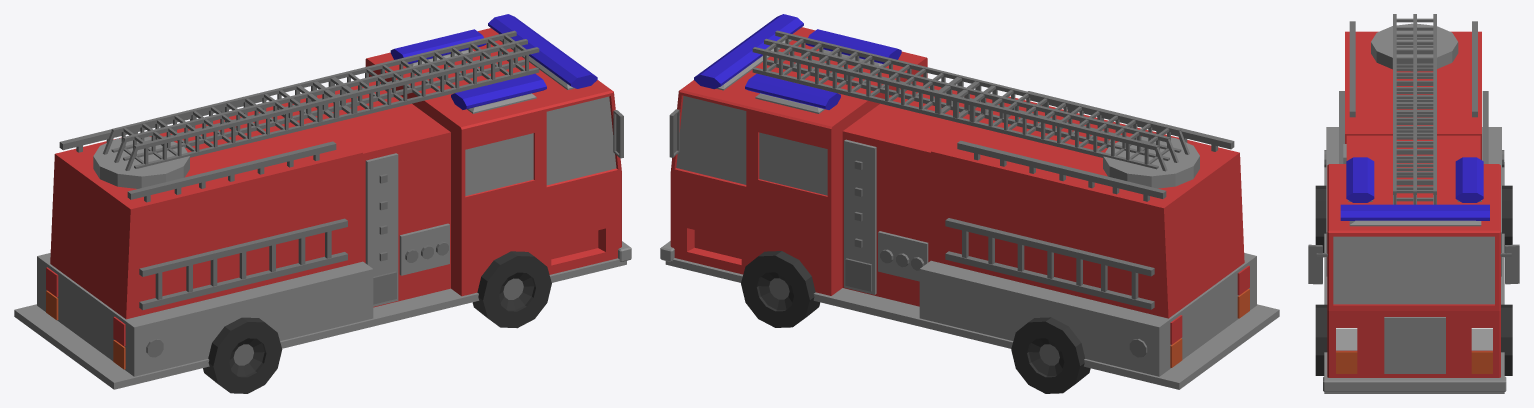
The model's file is FireEngineColoured.fbx.
3 renders of one model, left to right at view 1: azimuth 30°, elevation 25°; view 2: azimuth 150°, elevation 25°; view 3: azimuth 270°, elevation 25°, orthographic. The views are drawn at different scales.
Visible parts, largest first — view 1: Cube.002, Cube.005, Cube.008, Cube.004, Cube.003, Cube, Cube.006, Cylinder, Cylinder.003, Cube.021, Cylinder.004, Cube.012 (+6 smaller); view 2: Cube.002, Cube.005, Cube.008, Cube.004, Cube.003, Cube, Cube.007, Cylinder.001, Cylinder.002, Cube.034, Cylinder.004, Cube.012 (+6 smaller); view 3: Cube.005, Cube.002, Cube.008, Cube.016, Cube.015, Cube.003, Cube.012, Cylinder.004, Cube.004, Cube.014, Cube.013, Cube (+15 smaller).
Part boxes in pixels (left/top/right/bottom): Cube.002: left=50, top=102, right=362, bottom=319; Cube.005: left=365, top=28, right=621, bottom=296; Cube.008: left=103, top=30, right=539, bottom=170; Cube.004: left=37, top=253, right=373, bottom=376; Cube.003: left=300, top=81, right=450, bottom=307; Cube: left=14, top=258, right=626, bottom=389; Cube.006: left=139, top=218, right=347, bottom=310; Cylinder: left=472, top=251, right=551, bottom=328; Cylinder.003: left=203, top=317, right=282, bottom=393; Cube.021: left=365, top=153, right=398, bottom=306; Cylinder.004: left=93, top=136, right=189, bottom=188; Cube.012: left=488, top=14, right=597, bottom=88; Cube.002: left=931, top=96, right=1244, bottom=318; Cube.005: left=670, top=27, right=927, bottom=295; Cube.008: left=752, top=30, right=1189, bottom=171; Cube.004: left=919, top=253, right=1256, bottom=376; Cube.003: left=842, top=81, right=992, bottom=306; Cube: left=665, top=258, right=1279, bottom=389; Cube.007: left=945, top=218, right=1154, bottom=309; Cylinder.001: left=741, top=251, right=820, bottom=327; Cylinder.002: left=1011, top=317, right=1090, bottom=393; Cube.034: left=844, top=139, right=876, bottom=294; Cylinder.004: left=1103, top=136, right=1199, bottom=188; Cube.012: left=694, top=14, right=803, bottom=89; Cube.005: left=1327, top=164, right=1500, bottom=377; Cube.002: left=1345, top=31, right=1481, bottom=159; Cube.008: left=1393, top=14, right=1436, bottom=204; Cube.016: left=1384, top=317, right=1445, bottom=373; Cube.015: left=1323, top=376, right=1506, bottom=391; Cube.003: left=1346, top=135, right=1480, bottom=163; Cube.012: left=1340, top=204, right=1489, bottom=220; Cylinder.004: left=1371, top=23, right=1458, bottom=71; Cube.004: left=1326, top=127, right=1501, bottom=276; Cube.014: left=1455, top=157, right=1483, bottom=202; Cube.013: left=1346, top=157, right=1374, bottom=202; Cube: left=1324, top=162, right=1504, bottom=393.
Size of the model in its own units: 1236 by 531 by 485.
